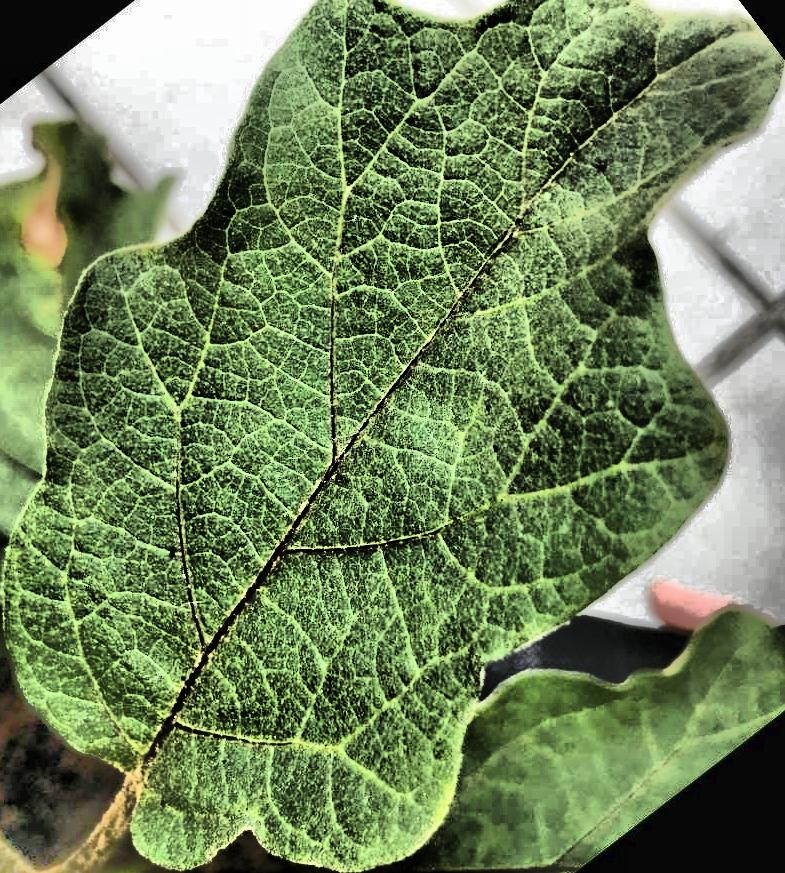HEALTHY: (1, 0, 785, 873)
